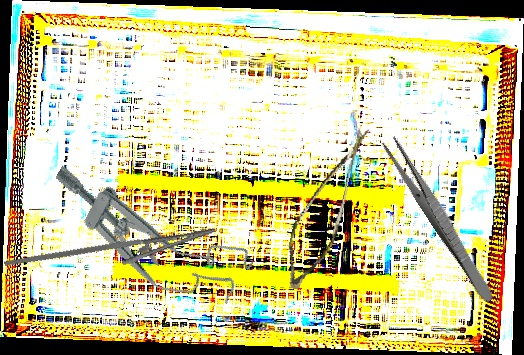Dressing Forceps: (379, 134, 500, 305)
Micro Scissor: (279, 114, 370, 298)
Needle Holder: (3, 202, 221, 307)
Speculum: (32, 151, 258, 323)
